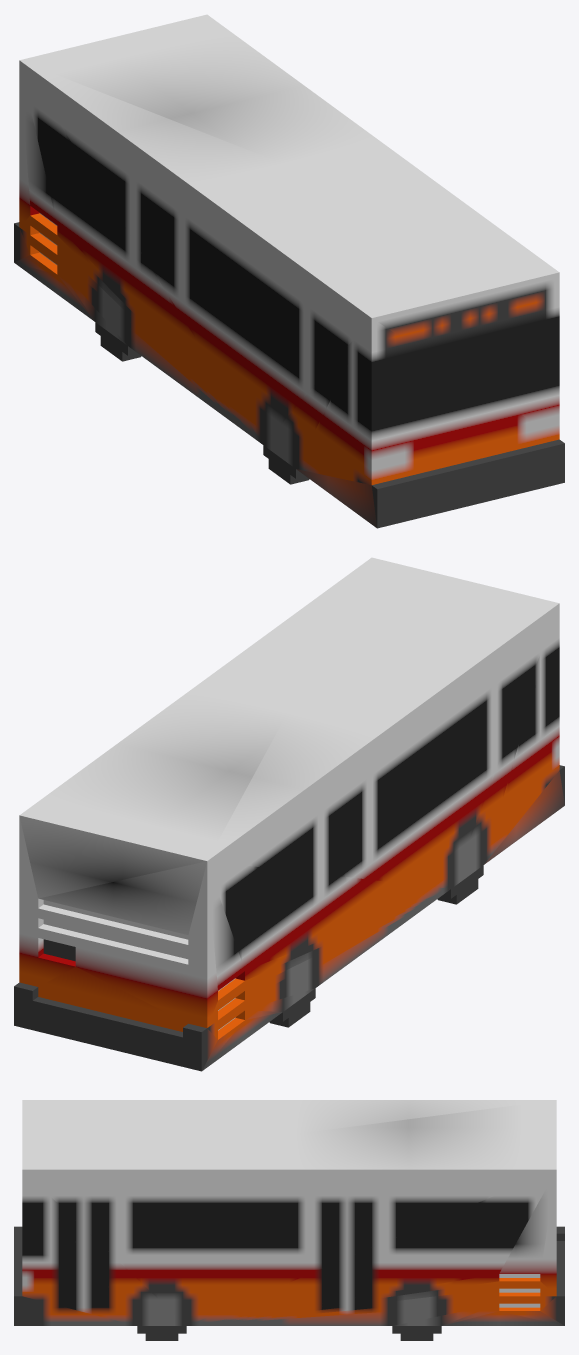
Rendered from veh_bus.fbx.
3 renders of one model, top to bottom at view 1: azimuth 30°, elevation 25°; view 2: azimuth 150°, elevation 25°; view 3: azimuth 270°, elevation 25°, orthographic. The views are drawn at different scales.
Visible parts, largest first — view 1: veh_bus; view 2: veh_bus; view 3: veh_bus.
Boxes of the visible parts, x1,y1,x2,y2 form: veh_bus: (14,14,564,528); veh_bus: (14,557,564,1071); veh_bus: (14,1100,564,1340).
Bounding box in the file's own units: 2 × 6.7 × 2.3.
1 material, 1 textured.
